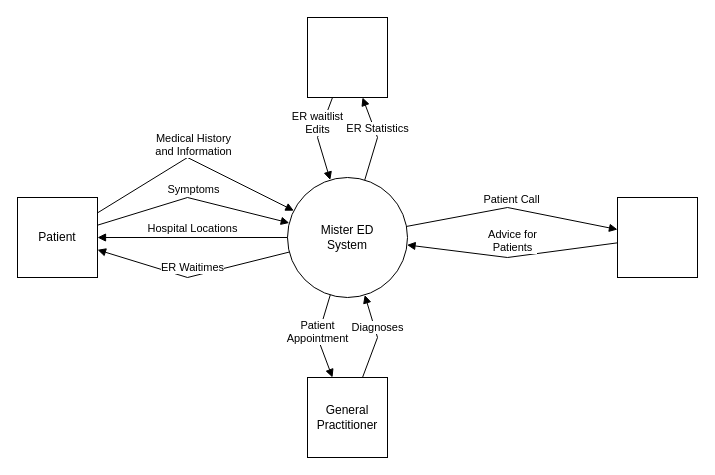
Some shapes in this 715 by 475 pixel diagram are drawn without their labels. The centre of each missing label's shape, as x and y in pixels:
"Emergency Department Manager" goes at (347,57).
"Nurse" goes at (657,237).
